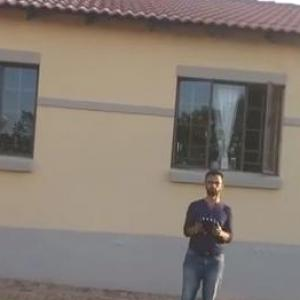follow: (173, 162, 240, 299)
